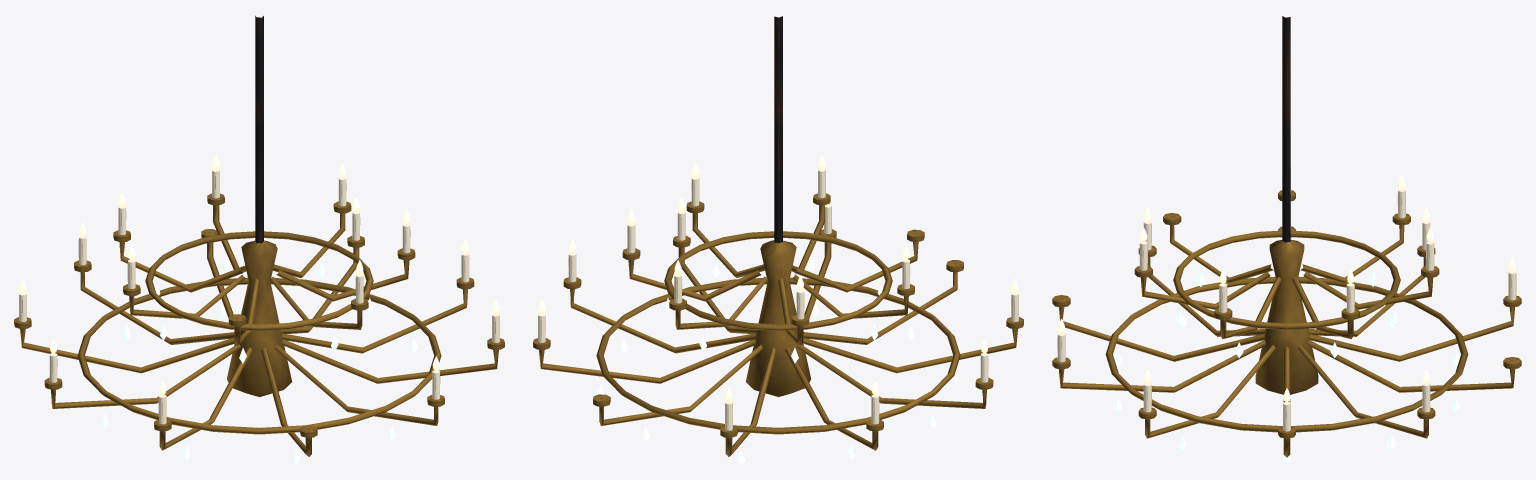
The model's file is chandelier.glb.
The picture shows the model from 3 angles, left to right: view 1: azimuth 30°, elevation 25°; view 2: azimuth 150°, elevation 25°; view 3: azimuth 270°, elevation 25°; orthographic projection.
Visible parts, largest first — view 1: chandelier; view 2: chandelier; view 3: chandelier.
Boxes of the visible parts, left/top/right/bottom form: chandelier: left=14, top=15, right=504, bottom=465; chandelier: left=533, top=16, right=1023, bottom=465; chandelier: left=1052, top=16, right=1521, bottom=465.
Size of the model in its own units: 2.7 by 2.3 by 2.57.
5 materials, 2 textured.
